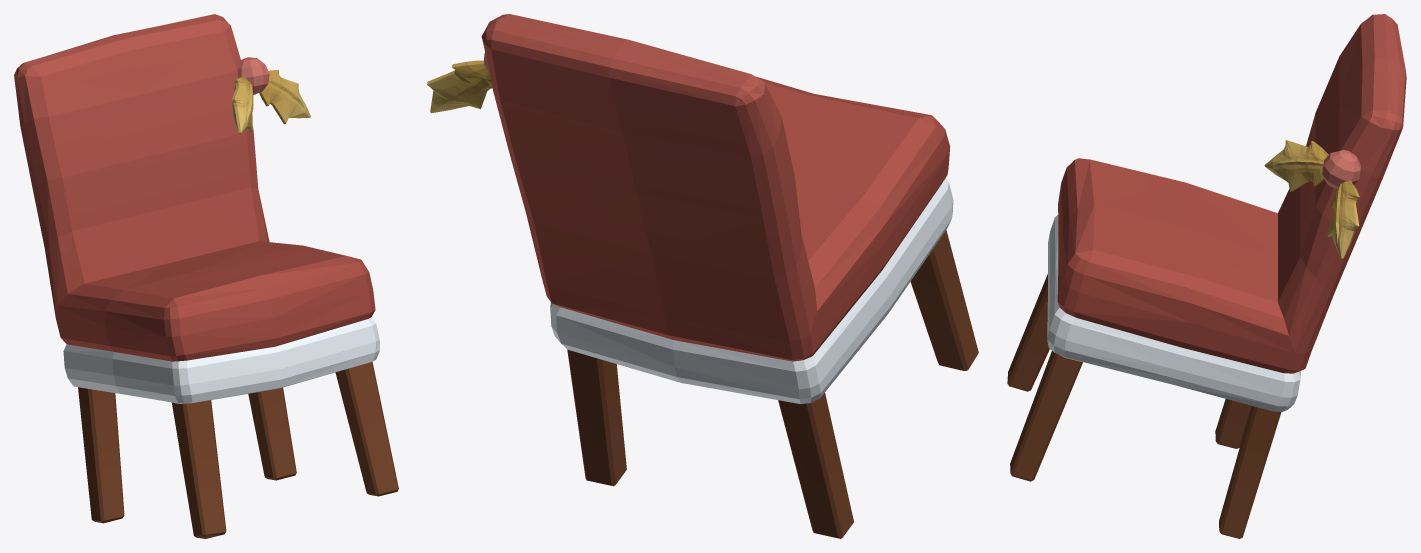
File: CharSkyKid_Prop_TableXmas.glb
3 renders of one model, left to right at view 1: azimuth 30°, elevation 25°; view 2: azimuth 150°, elevation 25°; view 3: azimuth 270°, elevation 25°, orthographic. The views are drawn at different scales.
Visible parts, largest first — view 1: CharSkyKid_Prop_TableXmas; view 2: CharSkyKid_Prop_TableXmas; view 3: CharSkyKid_Prop_TableXmas.
Boxes of the visible parts, <box> form: CharSkyKid_Prop_TableXmas: <box>14,14,398,538</box>; CharSkyKid_Prop_TableXmas: <box>427,14,978,538</box>; CharSkyKid_Prop_TableXmas: <box>1007,14,1406,538</box>.
Bounding box in the file's own units: 4 × 5.64 × 4.74.
1 material, 1 textured.
